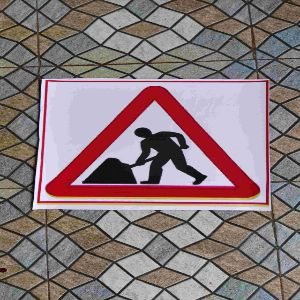men at work: (38, 78, 266, 204)
